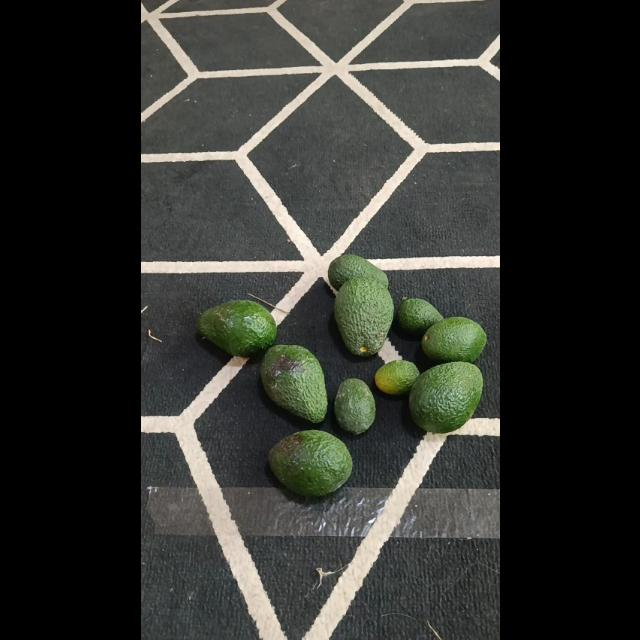Primera: (268, 430, 352, 494), (259, 343, 327, 422), (408, 362, 484, 432), (334, 276, 394, 356), (195, 299, 275, 355)
Segunda: (421, 316, 487, 364), (328, 255, 388, 293)
Tercera: (333, 378, 375, 432), (395, 297, 443, 335), (374, 360, 420, 394)
